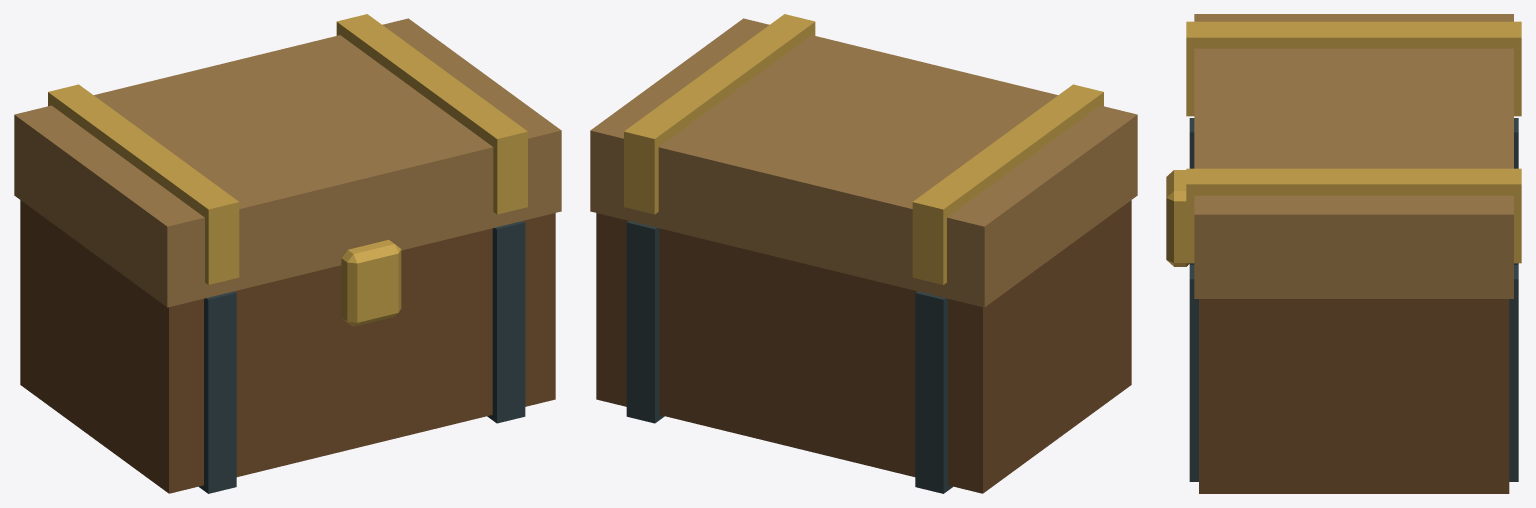
File: adventure-chest.glb
3 views of the same model, side by side, from view 1: azimuth 30°, elevation 25°; view 2: azimuth 150°, elevation 25°; view 3: azimuth 270°, elevation 25° (orthographic). The views are drawn at different scales.
Visible parts, largest first — view 1: Chest_lid, Chest_body, Lid_band.001, Lid_band, Chest_band.001, Chest_band, Chest_lock; view 2: Chest_body, Chest_lid, Lid_band.001, Lid_band, Chest_band.001, Chest_band; view 3: Chest_lid, Chest_body, Lid_band, Lid_band.001, Chest_band.001, Chest_lock, Chest_band.
Boxes of the visible parts, x1,y1,x2,y2 form: Chest_lid: [14, 18, 561, 307]; Chest_body: [20, 200, 555, 493]; Lid_band.001: [336, 14, 527, 214]; Lid_band: [48, 84, 239, 284]; Chest_band.001: [487, 221, 525, 423]; Chest_band: [199, 291, 236, 493]; Chest_lock: [341, 239, 401, 326]; Chest_body: [596, 200, 1131, 493]; Chest_lid: [590, 18, 1137, 307]; Lid_band.001: [624, 14, 815, 214]; Lid_band: [912, 84, 1103, 284]; Chest_band.001: [626, 221, 664, 423]; Chest_band: [915, 291, 952, 493]; Chest_lid: [1194, 14, 1513, 298]; Chest_body: [1199, 299, 1509, 493]; Lid_band: [1186, 21, 1521, 116]; Lid_band.001: [1186, 168, 1521, 263]; Chest_band.001: [1189, 265, 1518, 481]; Chest_lock: [1166, 170, 1189, 266]; Chest_band: [1189, 118, 1518, 264].
Size of the model in its own units: 1.53 by 1.06 by 1.15.
